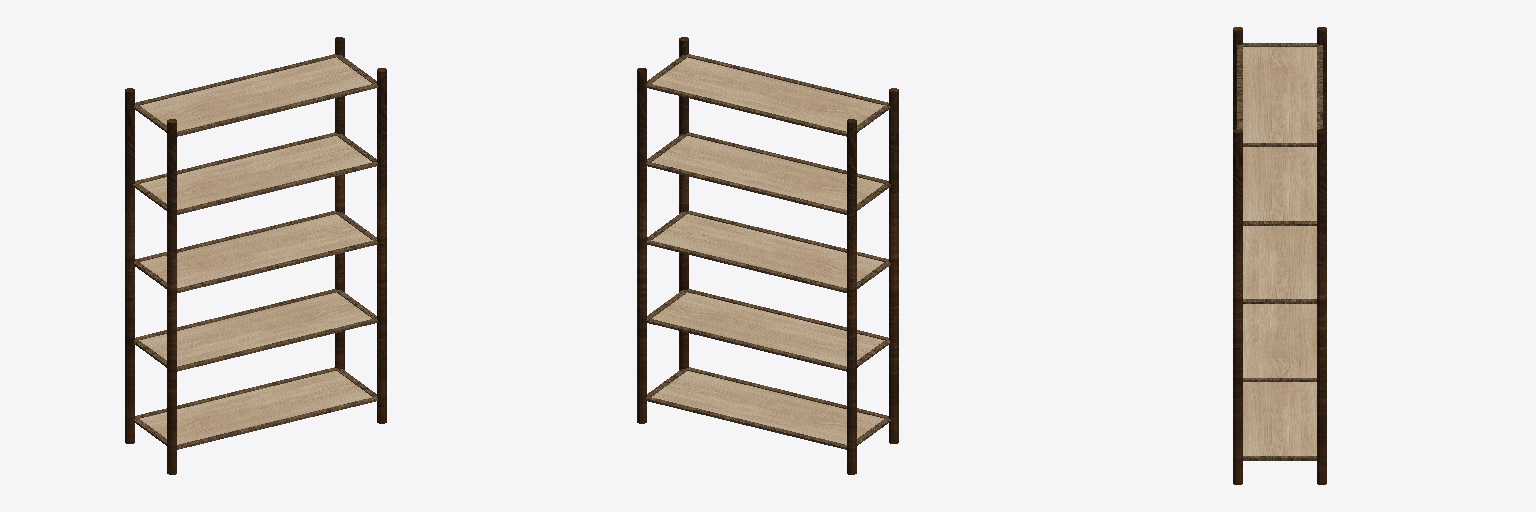
The picture shows the model from 3 angles: view 1: azimuth 30°, elevation 25°; view 2: azimuth 150°, elevation 25°; view 3: azimuth 270°, elevation 25°; orthographic projection.
Visible parts, largest first — view 1: eb_metal_shelf_01_eb_metal_shelf_01; view 2: eb_metal_shelf_01_eb_metal_shelf_01; view 3: eb_metal_shelf_01_eb_metal_shelf_01.
Boxes of the visible parts, x1=… form: eb_metal_shelf_01_eb_metal_shelf_01: x1=125, y1=37, x2=386, y2=474; eb_metal_shelf_01_eb_metal_shelf_01: x1=637, y1=37, x2=898, y2=474; eb_metal_shelf_01_eb_metal_shelf_01: x1=1233, y1=27, x2=1326, y2=484.
Bounding box in the file's own units: 4.96 × 7.66 × 1.86.
Materials: 3 (3 with a texture image).